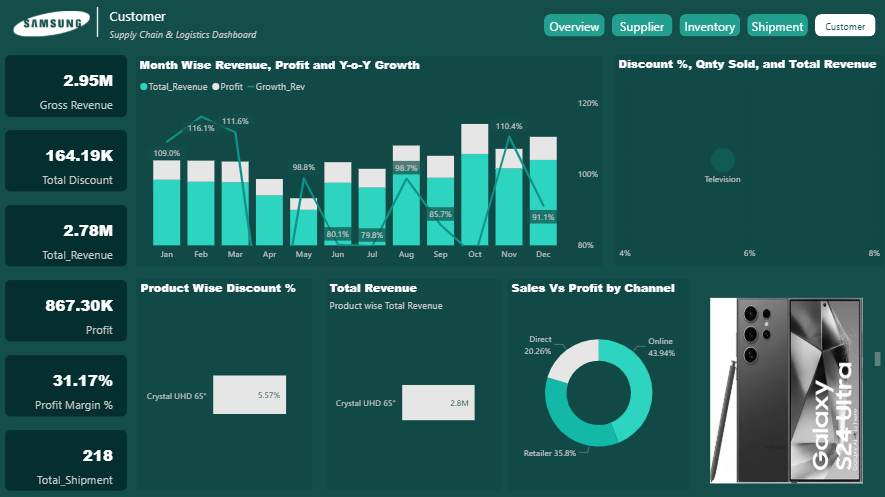

Layout of this report page (visuals, bound fields, positions):
{"tool":"powerbi","page":{"name":"Customer","canvas":[1280,720],"ordinal":5},"visuals":[{"type":"donutChart","title":"Sales Vs Profit by Channel","fields":{"Y":["Measures Table.Total_Revenue"],"Category":["dim_customer.channel_type"]},"box":[727.1,402.9,257.1,300],"z":0},{"type":"textbox","title":"Customer","box":[157.3,17,248,53.9],"z":1000},{"type":"shape","box":[131.8,17,26.9,42.5],"z":2000},{"type":"cardVisual","fields":{"Data":["Sum(fact_sales.discount_amount)"]},"box":[14.2,191.9,172.8,87],"z":3000},{"type":"cardVisual","fields":{"Data":["Measures Table.Total_Revenue"]},"box":[14.2,298,172.8,87],"z":4000},{"type":"cardVisual","fields":{"Data":["Measures Table.Profit"]},"box":[14.2,404.1,172.8,87],"z":5000},{"type":"cardVisual","fields":{"Data":["Measures Table.Profit Margin %"]},"box":[14.2,510.2,172.8,87],"z":6000},{"type":"cardVisual","fields":{"Data":["Measures Table.Total_Shipment"]},"box":[14.2,616.3,172.8,86.4],"z":7000},{"type":"cardVisual","fields":{"Data":["Sum(fact_sales.gross_revenue)"]},"box":[14.2,85,172.8,87.8],"z":8000},{"type":"image","box":[21.3,5.7,117.6,70.9],"z":9000},{"type":"lineStackedColumnComboChart","title":"Month Wise Revenue, Profit and Y-o-Y Growth","fields":{"Category":["dim_date.Short_Month"],"Y":["Measures Table.Total_Revenue","Measures Table.Profit"],"Y2":["Measures Table.Growth_Rev"]},"box":[200.5,86.8,661.3,298.7],"z":10000},{"type":"clusteredBarChart","title":"Total Revenue","fields":{"Y":["Measures Table.Total_Revenue"],"Category":["dim_product.product_name"]},"box":[469.3,402.9,248.9,300.1],"z":11000},{"type":"clusteredBarChart","title":"Product Wise Discount %","fields":{"Y":["Measures Table.Discount %"],"Category":["dim_product.product_name"]},"box":[202,402.9,248.9,300.1],"z":12000},{"type":"scatterChart","title":"Discount %, Qnty Sold, and Total Revenue ","fields":{"X":["Measures Table.Discount %"],"Series":["dim_product.category"],"Size":["Measures Table.Total_Revenue"],"Y":["Measures Table.Total_Sales_Quantity"]},"box":[878.9,85.3,381.2,298.7],"z":13000},{"type":"advancedSlicerVisual","fields":{"Values":["dim_product.product_name"]},"box":[994.3,404.3,265.7,300],"z":14000},{"type":"pageNavigator","box":[778.6,27.1,470,32.9],"z":15000}]}

Visuals, with their boxes in screenshot pixels (x1, y1, x2, y2), scaled from the page's 1280x720 canvas onto the 885x497 screenshot:
"Sales Vs Profit by Channel" donutChart: <box>503,278,680,485</box>
"Customer" textbox: <box>109,12,280,49</box>
shape: <box>91,12,110,41</box>
cardVisual - Sum(fact_sales.discount_amount): <box>10,132,129,193</box>
cardVisual - Measures Table.Total_Revenue: <box>10,206,129,266</box>
cardVisual - Measures Table.Profit: <box>10,279,129,339</box>
cardVisual - Measures Table.Profit Margin %: <box>10,352,129,412</box>
cardVisual - Measures Table.Total_Shipment: <box>10,425,129,485</box>
cardVisual - Sum(fact_sales.gross_revenue): <box>10,59,129,119</box>
image: <box>15,4,96,53</box>
"Month Wise Revenue, Profit and Y-o-Y Growth" lineStackedColumnComboChart: <box>139,60,596,266</box>
"Total Revenue" clusteredBarChart: <box>324,278,497,485</box>
"Product Wise Discount %" clusteredBarChart: <box>140,278,312,485</box>
"Discount %, Qnty Sold, and Total Revenue " scatterChart: <box>608,59,871,265</box>
advancedSlicerVisual - dim_product.product_name: <box>687,279,871,486</box>
pageNavigator: <box>538,19,863,41</box>
